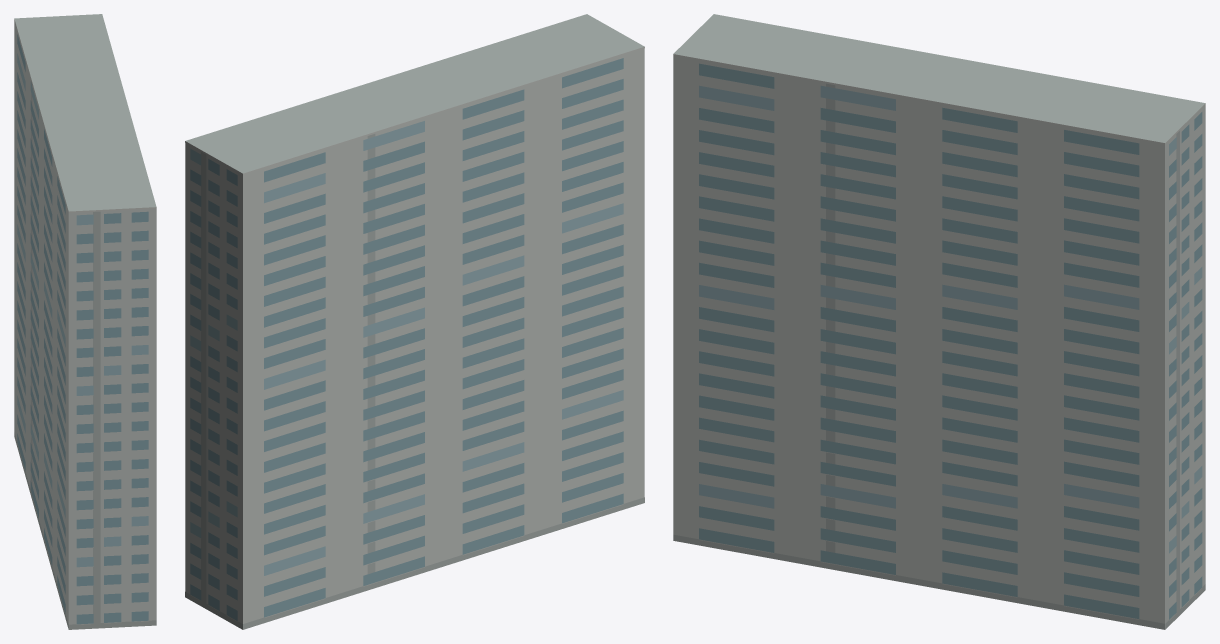
File: residential-ca65df69-2f4c-442d-89d9-b0c332ae783d.glb
The picture shows the model from 3 angles, left to right: view 1: azimuth 30°, elevation 25°; view 2: azimuth 150°, elevation 25°; view 3: azimuth 270°, elevation 25°; orthographic projection. The views are drawn at different scales.
Visible parts, largest first — view 1: residential-ca65df69-2f4c-442d-89d9-b0c332ae783d.tmp; view 2: residential-ca65df69-2f4c-442d-89d9-b0c332ae783d.tmp; view 3: residential-ca65df69-2f4c-442d-89d9-b0c332ae783d.tmp.
Boxes of the visible parts, <box> form: residential-ca65df69-2f4c-442d-89d9-b0c332ae783d.tmp: <box>14,14,156,629</box>; residential-ca65df69-2f4c-442d-89d9-b0c332ae783d.tmp: <box>185,14,644,629</box>; residential-ca65df69-2f4c-442d-89d9-b0c332ae783d.tmp: <box>673,14,1205,629</box>.
Bounding box in the file's own units: 35.29 × 62 × 61.48.
